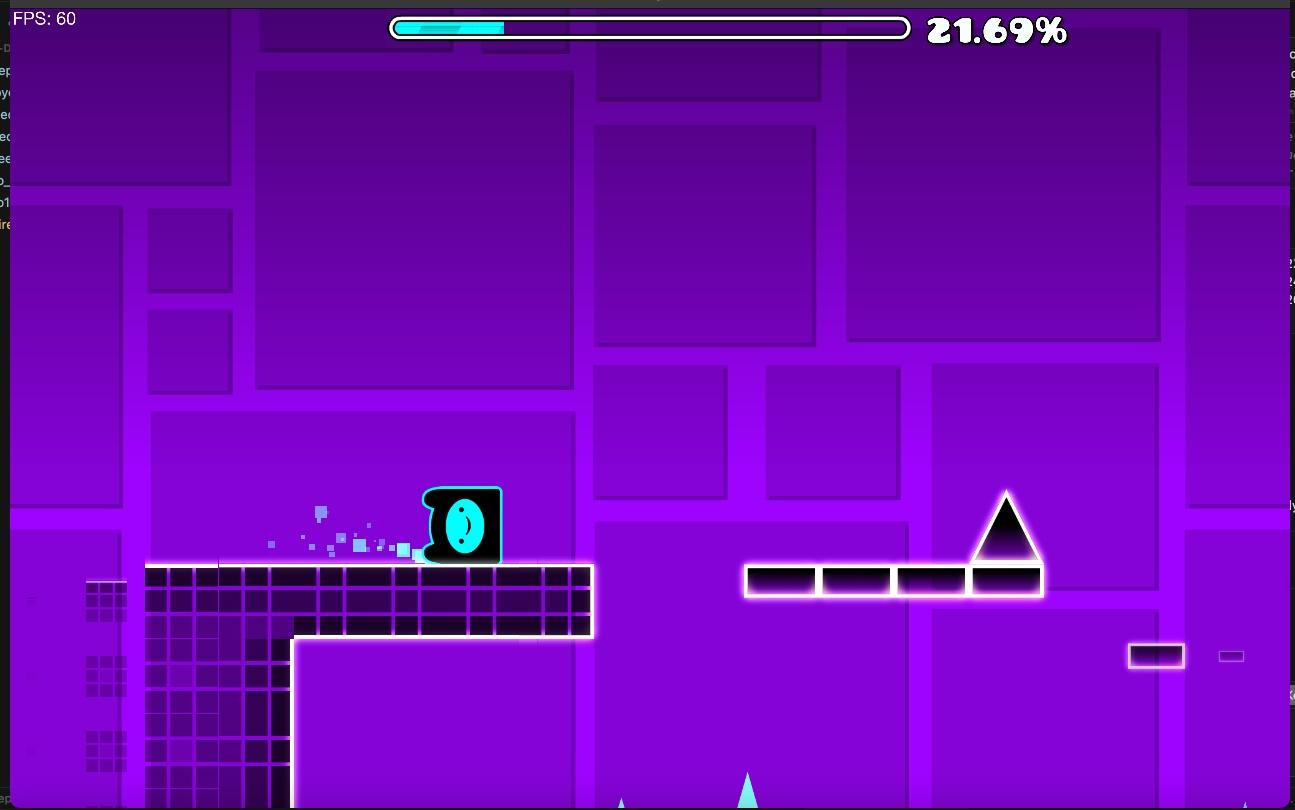block: (144, 569, 292, 805), (289, 566, 593, 638)
platform: (746, 567, 813, 595), (898, 566, 964, 593), (972, 568, 1040, 594), (823, 568, 888, 594), (1127, 644, 1184, 669)
player: (421, 486, 502, 564)
spike: (972, 493, 1038, 562), (736, 774, 757, 807), (617, 799, 624, 807)
